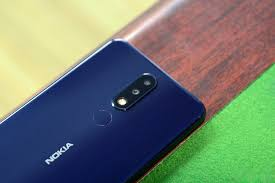nokia: (1, 34, 210, 182)
